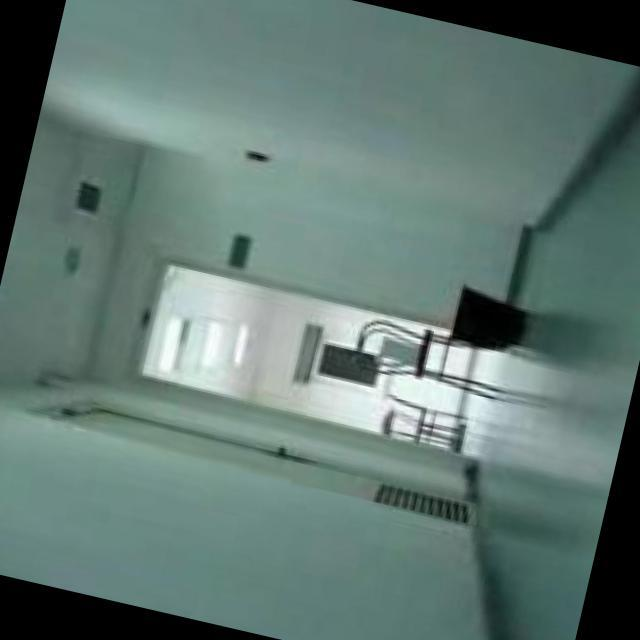Fire: (425, 308, 463, 346)
